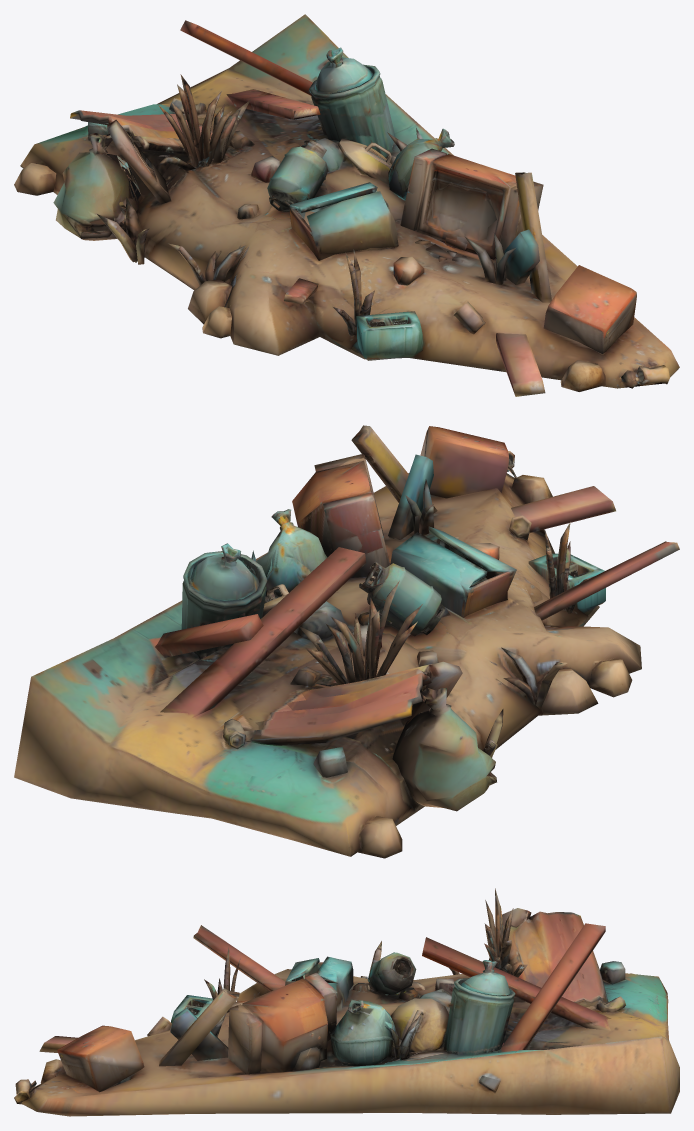
Rendered from garbage.fbx.
3 views of the same model, one above another, from view 1: azimuth 30°, elevation 25°; view 2: azimuth 150°, elevation 25°; view 3: azimuth 270°, elevation 25° (orthographic). The views are drawn at different scales.
Visible parts, largest first — view 1: input; view 2: input; view 3: input.
Part boxes in pixels (x1=…): input: x1=14, y1=14, x2=679, y2=396; input: x1=14, y1=425, x2=679, y2=858; input: x1=14, y1=888, x2=679, y2=1116.
Bounding box in the file's own units: 99.35 × 46.8 × 200.
1 material, 1 textured.
